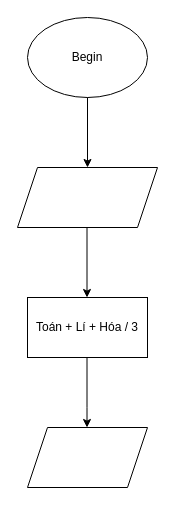
Some shapes in this 175 by 505 pixel diagram are drawn without their labels. Each missing label, with the box of its shape:
Display: (26, 426, 148, 488)
Input Toán,Lý,Hóa: (16, 166, 158, 228)
